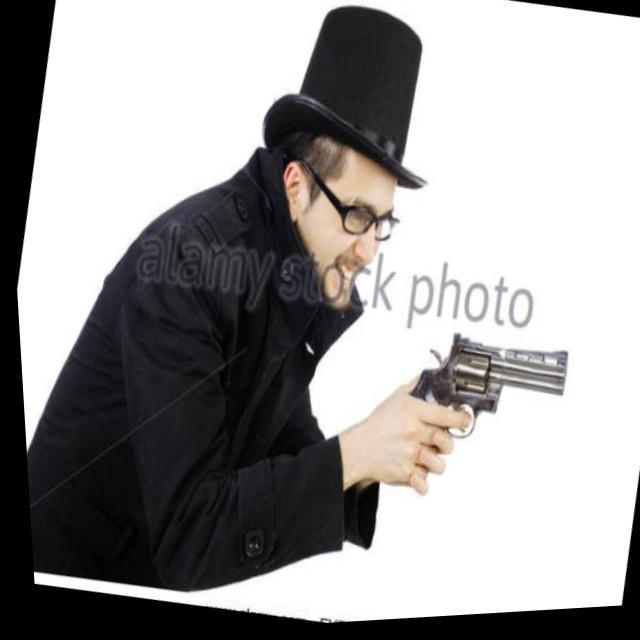weapon: (393, 324, 570, 466)
